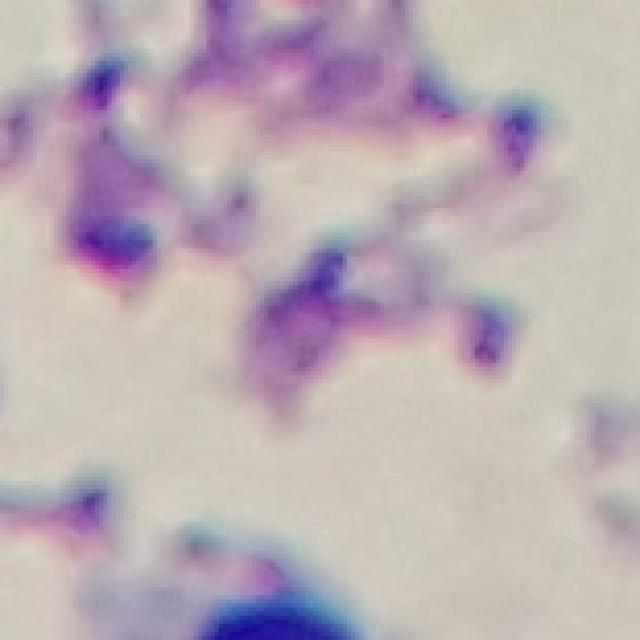non-sperm: (66, 50, 542, 372)
